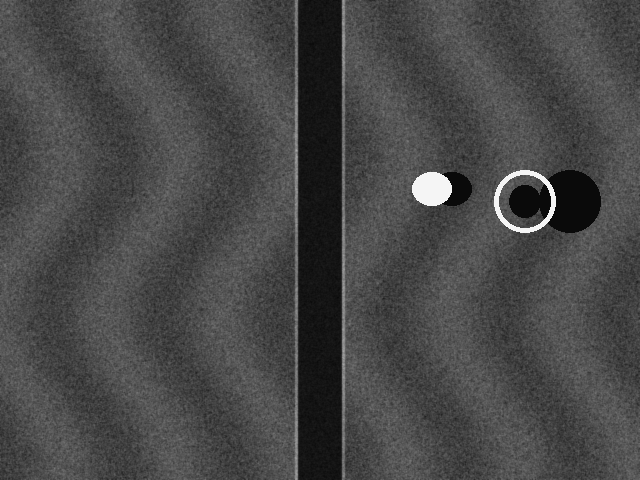Glass Debris: (412, 172, 451, 205)
Rubber Debris: (494, 170, 555, 232)
